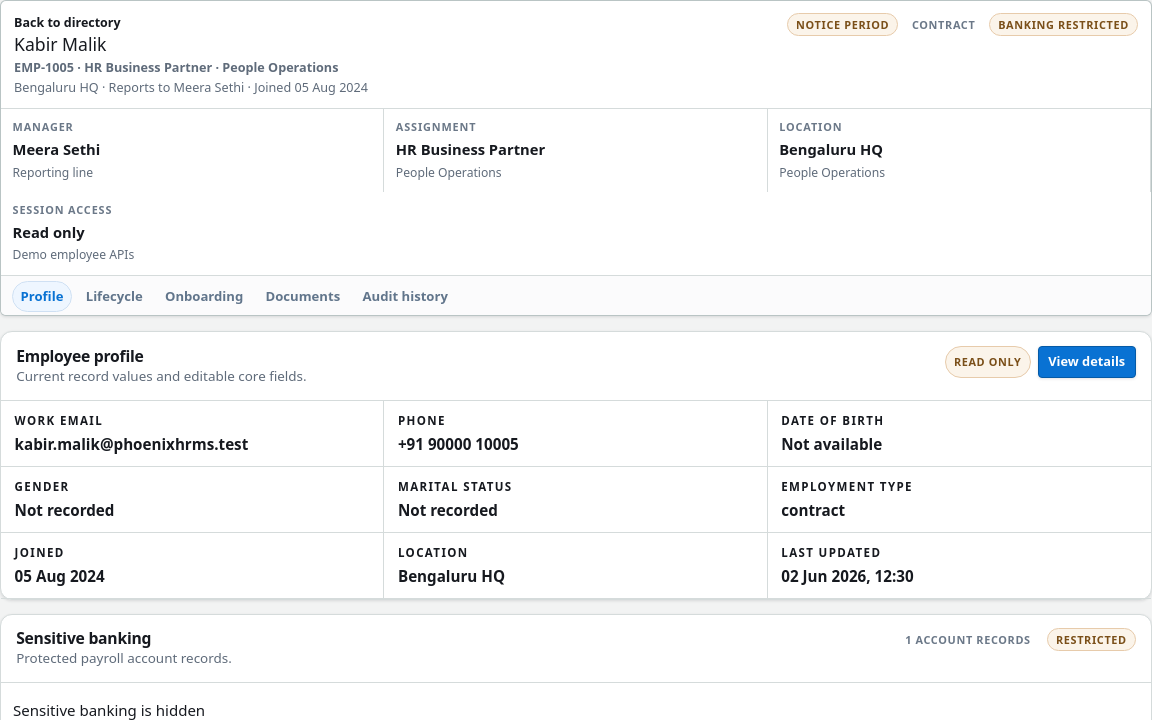
Test: EmployeeDetailShell › keeps manager access read only and hides sensitive banking
This screenshot has width=1152, height=720.
Expected: the heading "Sensitive banking is hidden" is shown, [13,700,205,719]
Click the link "Lifecycle" at {"x": 114, "y": 296}, box [86,287,143,305]
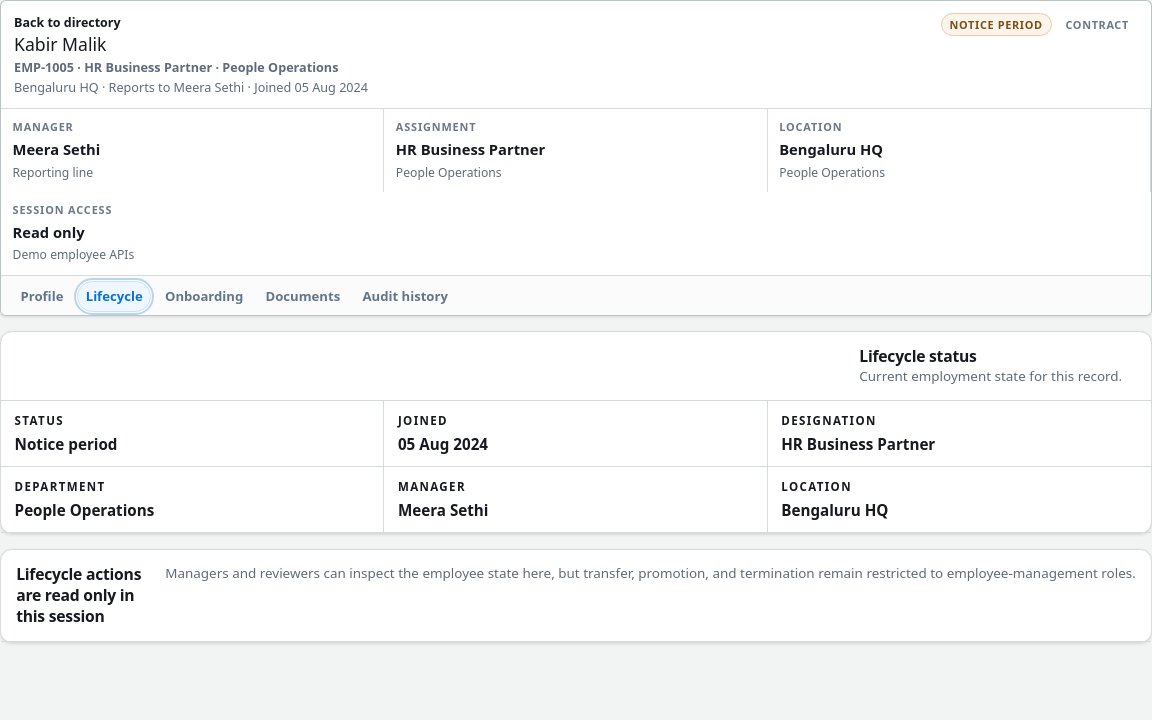
Result: the heading "Lifecycle actions are read only in this session" is shown at [16,564,152,627]
